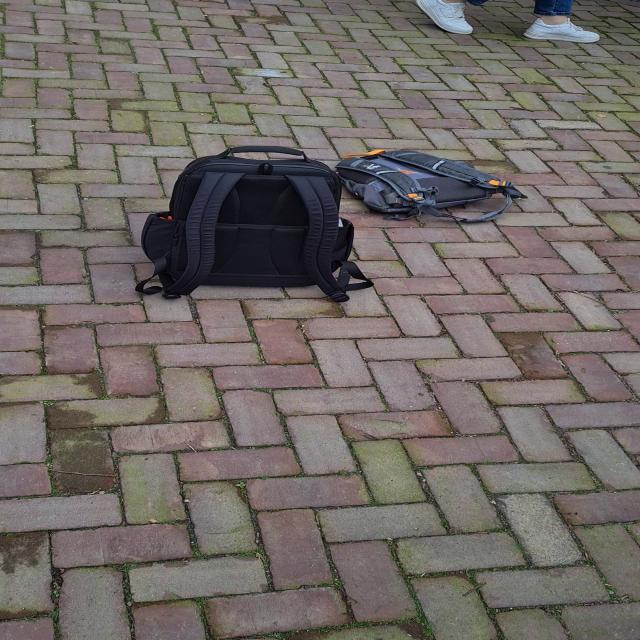backpack: (126, 140, 362, 297), (326, 147, 525, 220)
